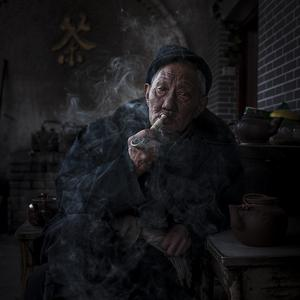cigarette: (144, 112, 172, 137)
